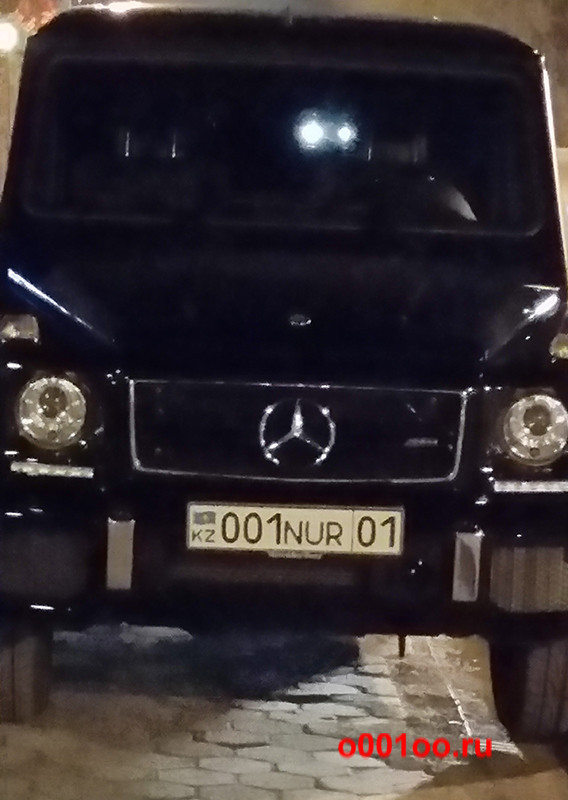license_plate: (190, 505, 403, 555)
